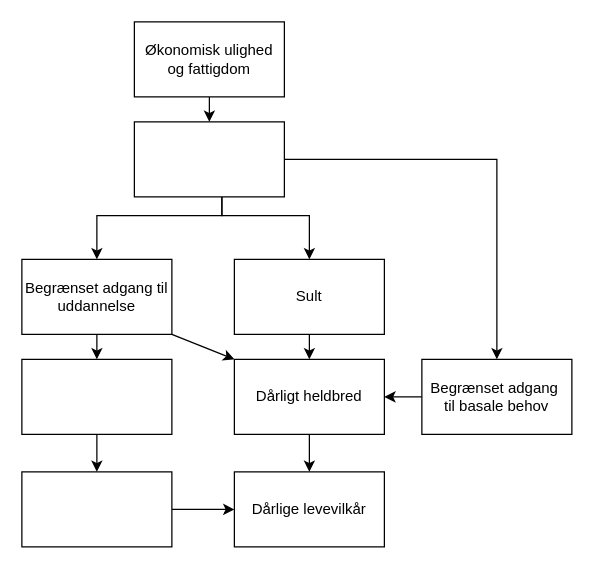
The diagram is 594 pixels wide and 569 high, and some of its shapes have lost their labels. The centre of each missing label's shape, as x and y in pixels:
"Forskelsbehandling" goes at (x=96, y=396).
"Mangel på jobs og ressourcer" goes at (x=208, y=159).
"Ulighed" goes at (x=96, y=509).
